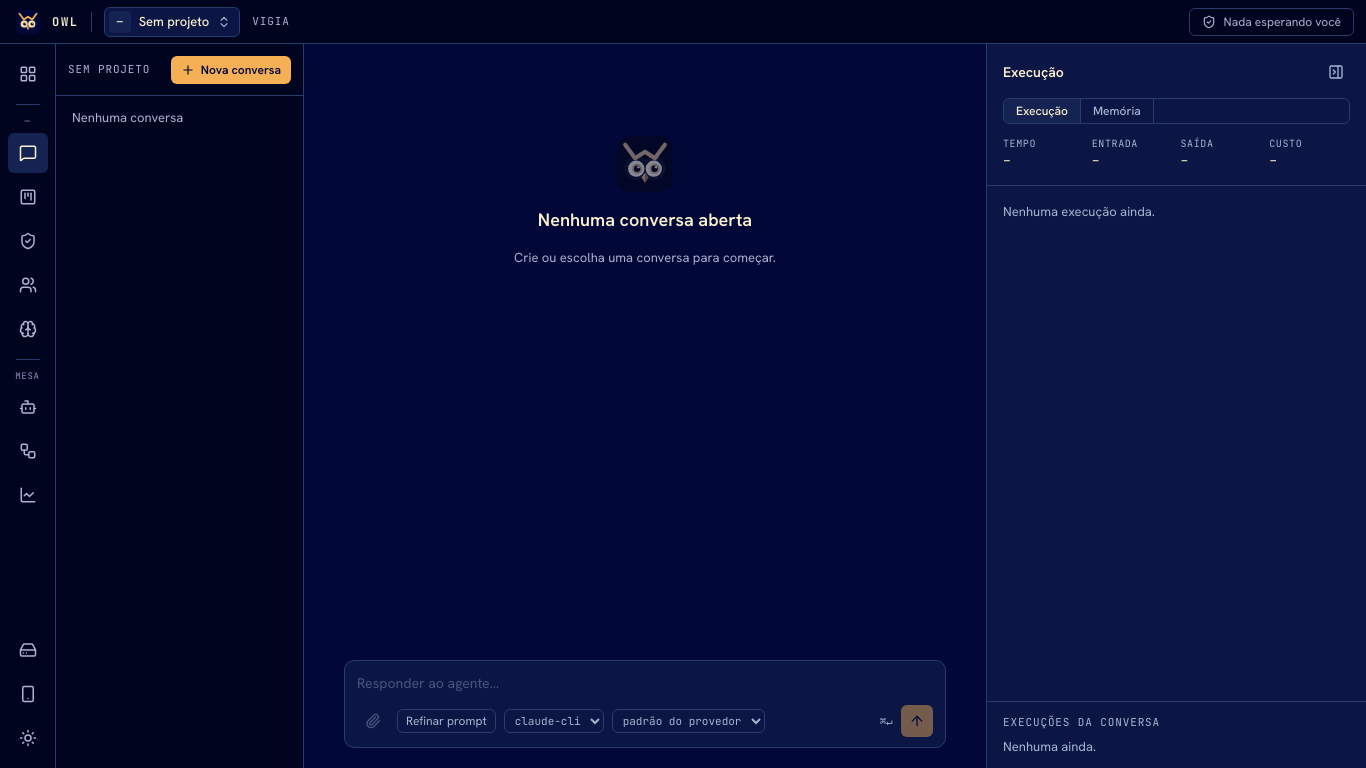
Test: agent library › keeps the editor and the text when the server refuses the agent, and says why
Click the button named "Agentes": (28, 407) [8,387,48,427]
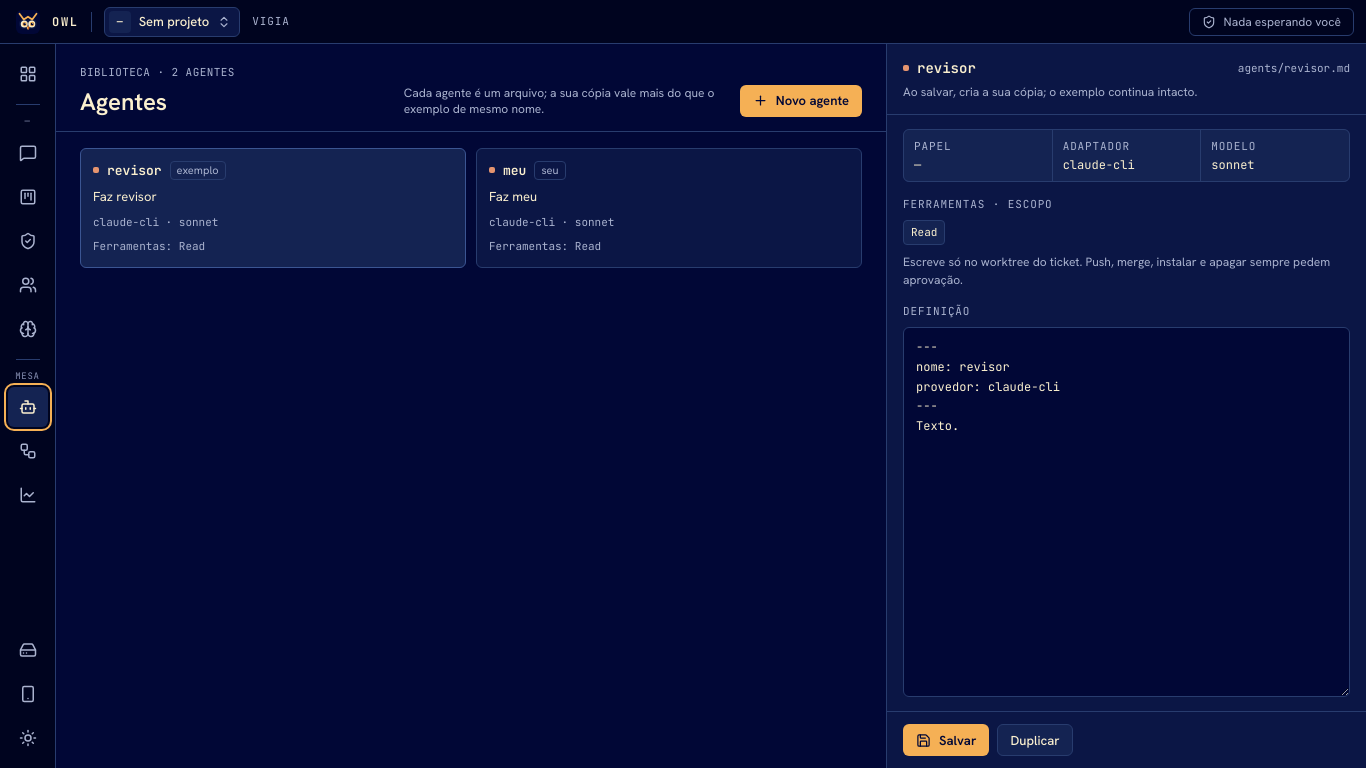
Check: the element named "Biblioteca de agentes" is shown
Click the button with aria-label "Editar meu": (550, 170) [476,148,862,268]
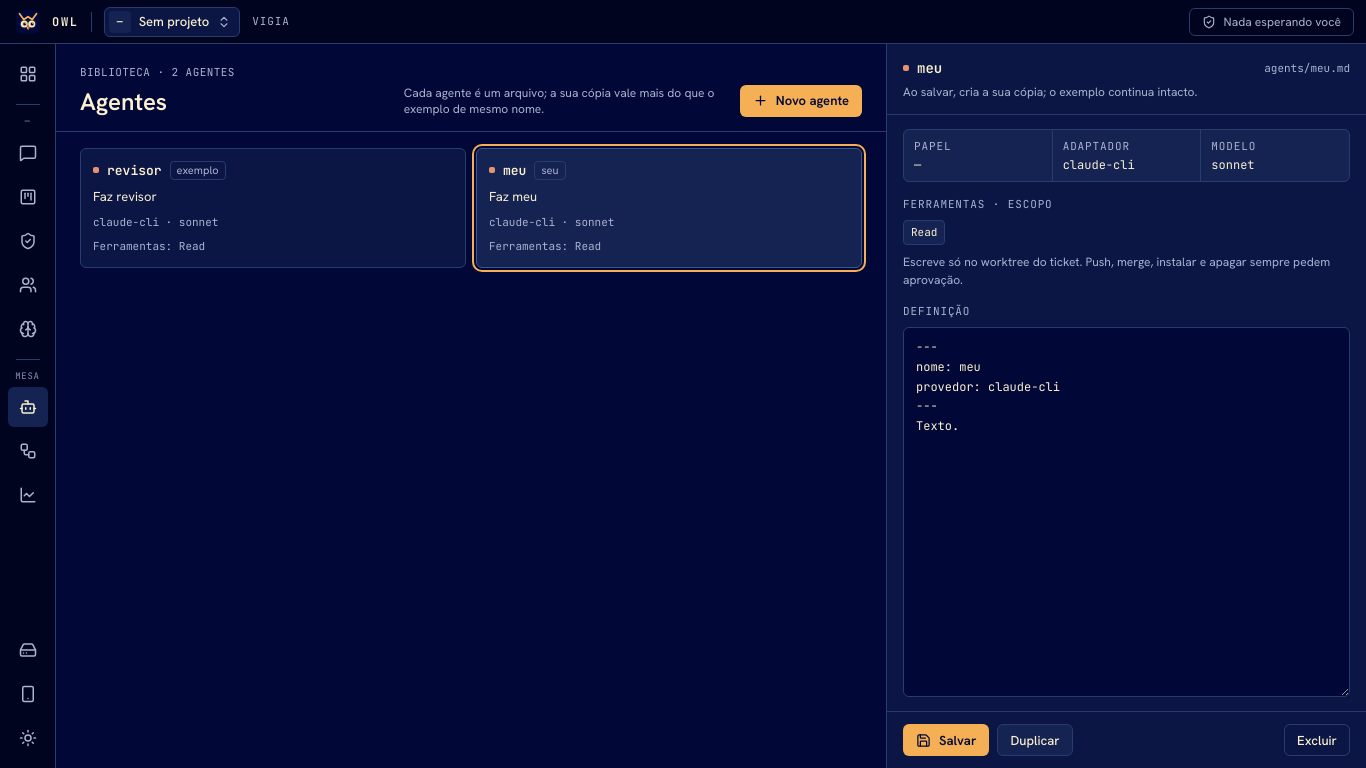
Check: the text box named "Arquivo do agente meu" is shown, box [903,327,1350,697]
Click the button "Salvar": (946, 740) [903,724,989,756]
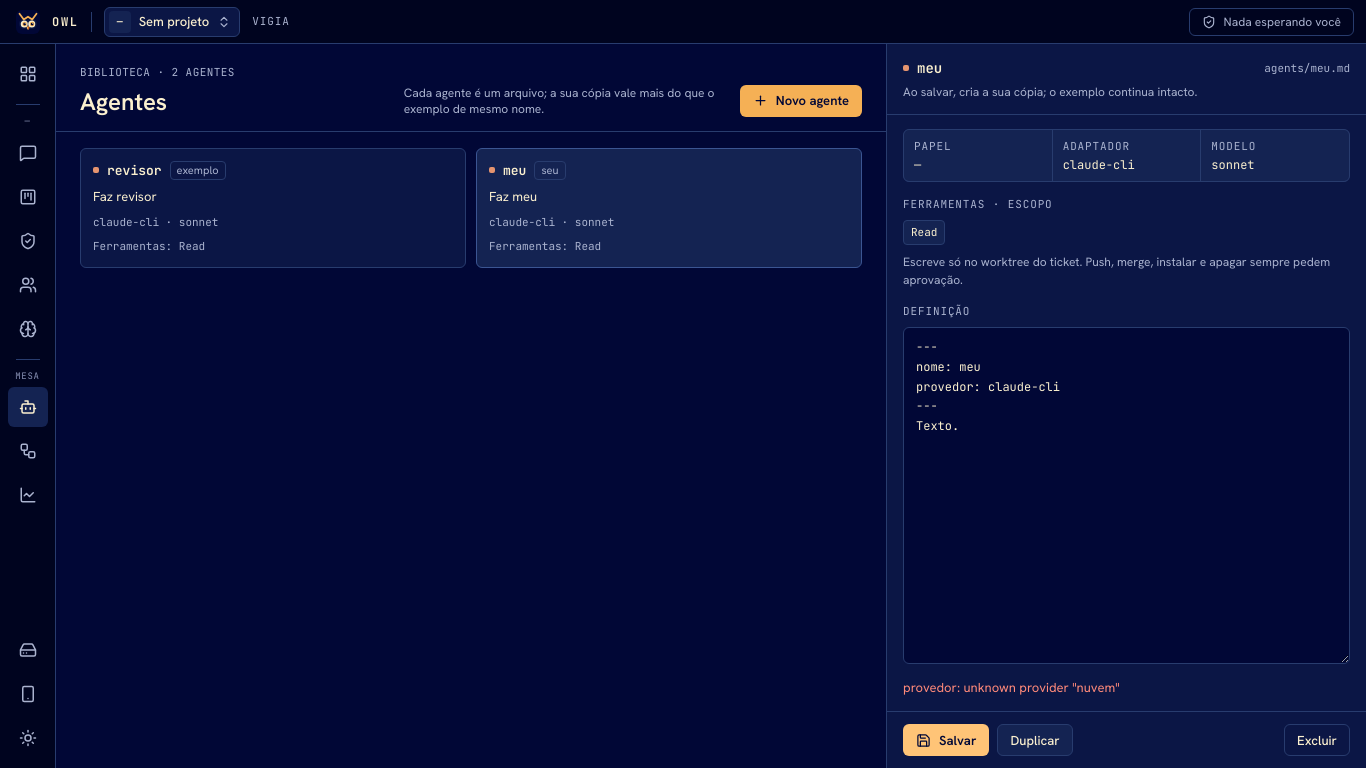
Check: the message shows "unknown provider \"nuvem\"", box [903,678,1120,696]
